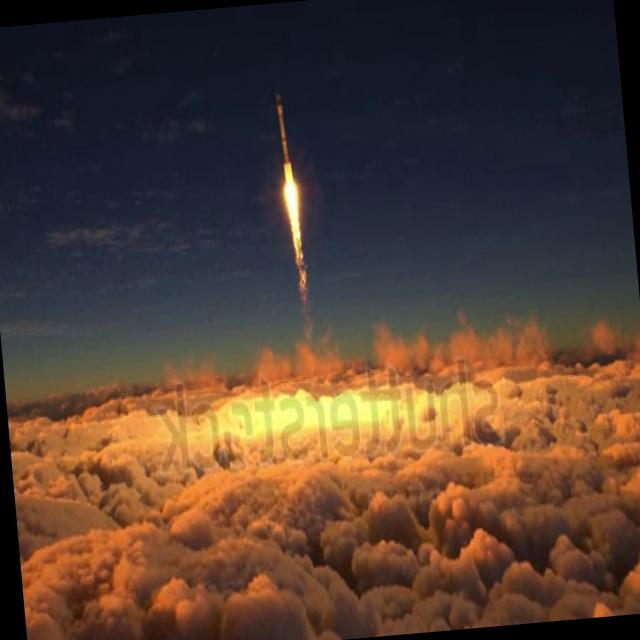rocket: (273, 95, 307, 292)
